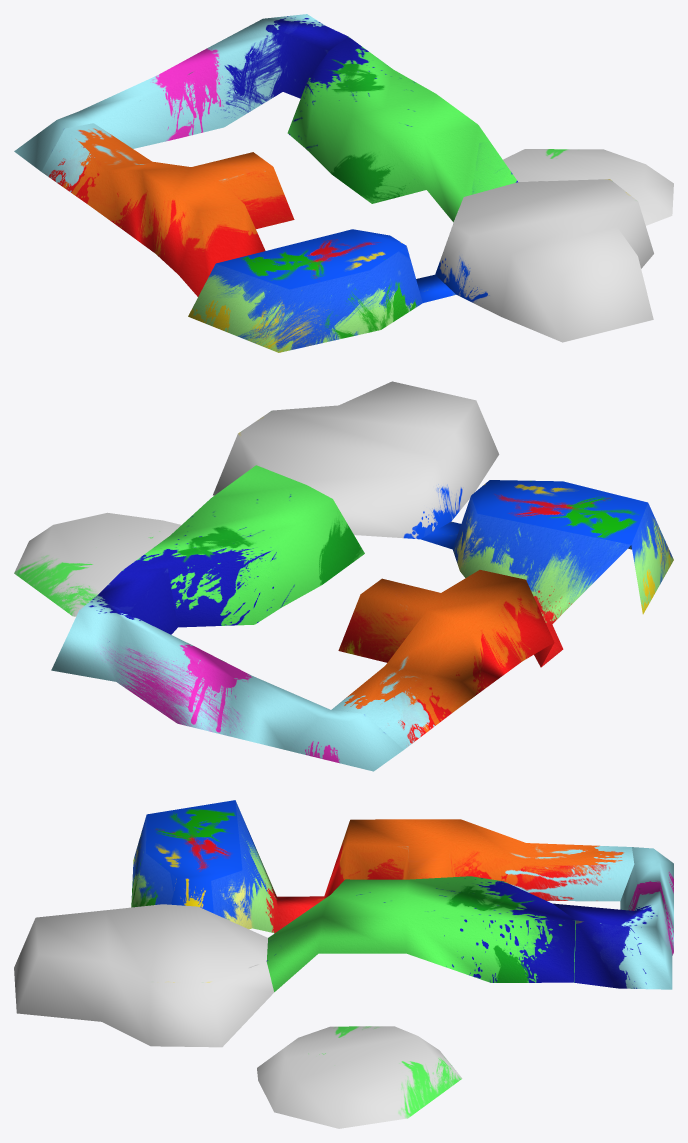
File: RoofCollider.fbx
3 views of the same model, one above another, from view 1: azimuth 30°, elevation 25°; view 2: azimuth 150°, elevation 25°; view 3: azimuth 270°, elevation 25° (orthographic). The views are drawn at different scales.
Parts seen in each view (by area): view 1: RoofCollider; view 2: RoofCollider; view 3: RoofCollider.
Part boxes in pixels (left/top/right/bottom): RoofCollider: left=14, top=14, right=673, bottom=352; RoofCollider: left=14, top=381, right=673, bottom=771; RoofCollider: left=14, top=800, right=673, bottom=1128.
Size of the model in its own units: 34.71 by 7.83 by 37.78.
